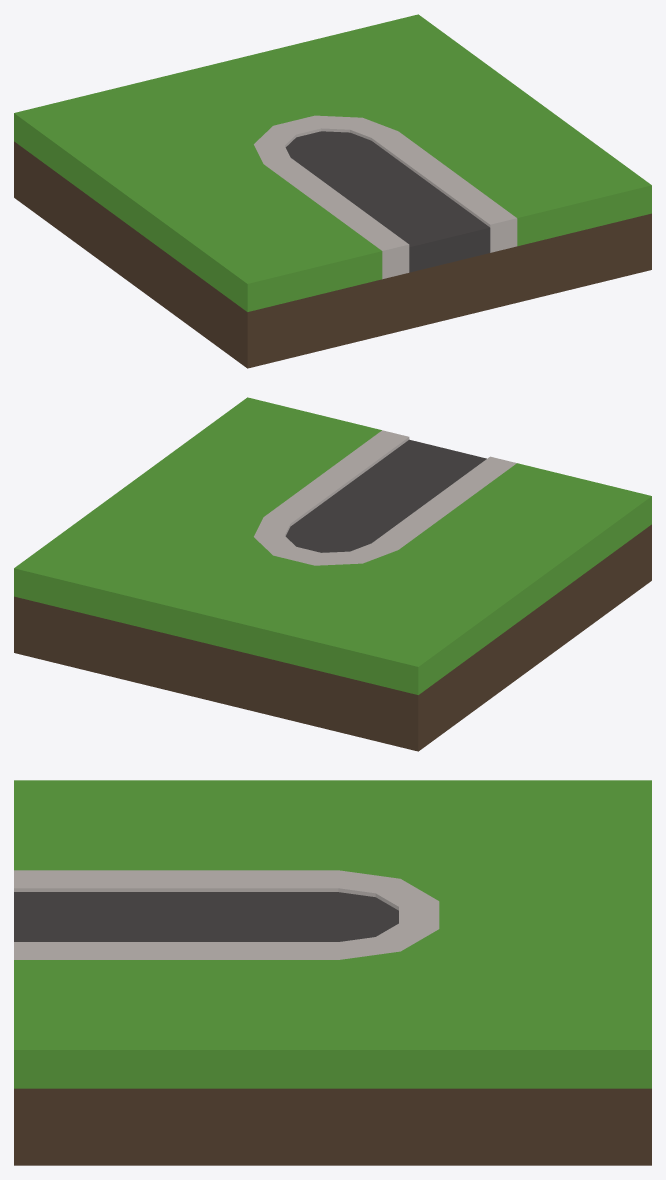
The model's file is tile-road-end.glb.
3 renders of one model, top to bottom at view 1: azimuth 30°, elevation 25°; view 2: azimuth 150°, elevation 25°; view 3: azimuth 270°, elevation 25°, orthographic. The views are drawn at different scales.
Parts seen in each view (by area): view 1: tile-road-end; view 2: tile-road-end; view 3: tile-road-end.
Boxes of the visible parts, x1=… form: tile-road-end: x1=14, y1=14, x2=651, y2=368; tile-road-end: x1=14, y1=397, x2=651, y2=751; tile-road-end: x1=14, y1=780, x2=651, y2=1165.
Size of the model in its own units: 30 by 6 by 30.
1 material, 1 textured.
